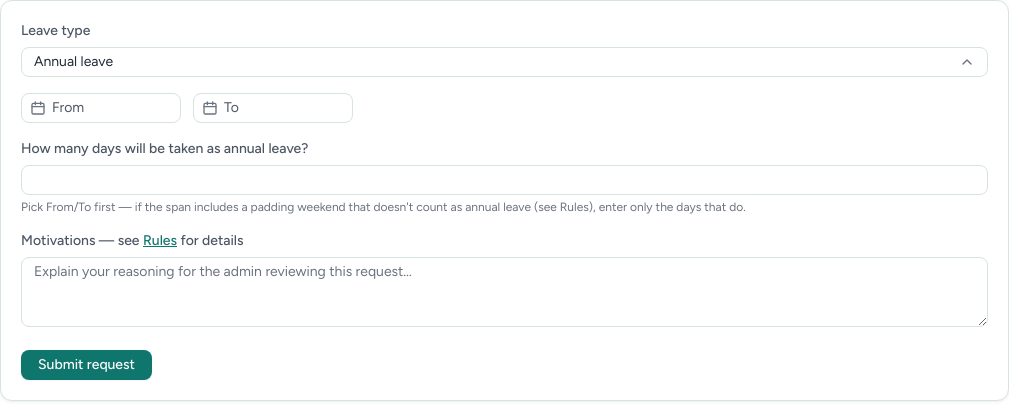
Scenario: LeaveRequestForm › special leave: shows an amber advisory once pressure is over the soft cap, without disabling submission
This screenshot has width=1024, height=419.
Step 1. Click the button "Annual leave" → point(74, 62), box [21,47,988,77]
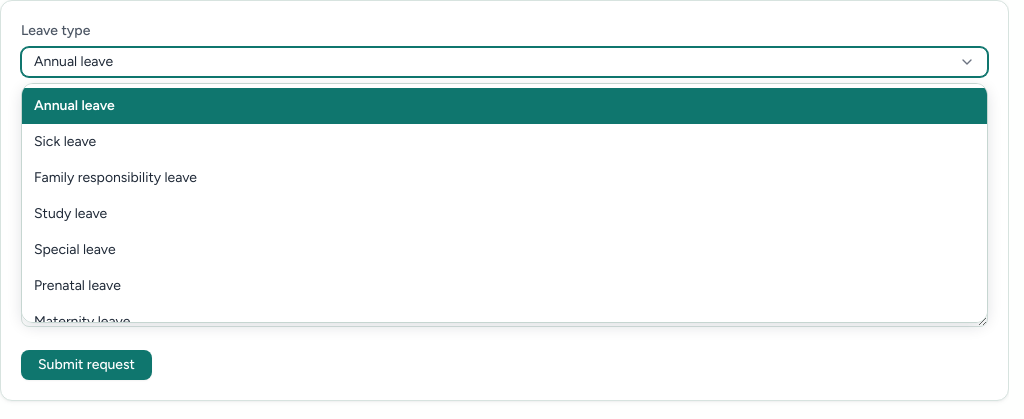
Step 2. Click the option "Special leave" → point(75, 250), box [22,232,987,268]
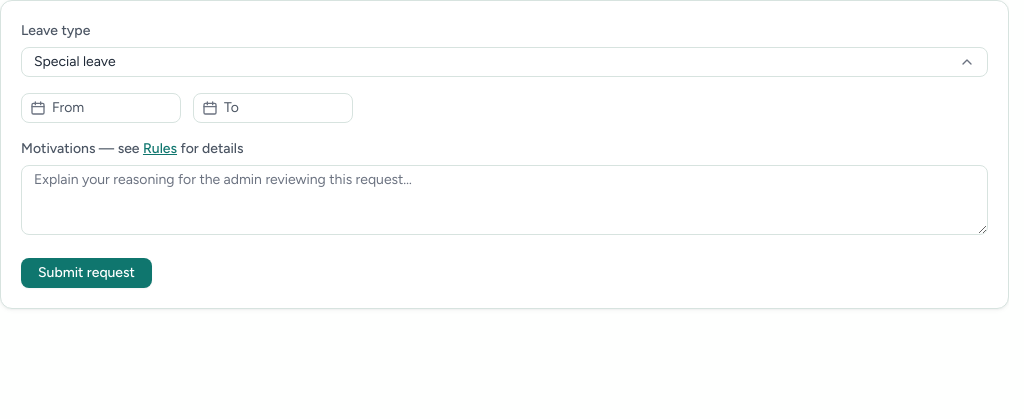
Step 3. Type "2026-08-10" into the date field labelled "From" → point(101, 108), box [21,93,181,123]
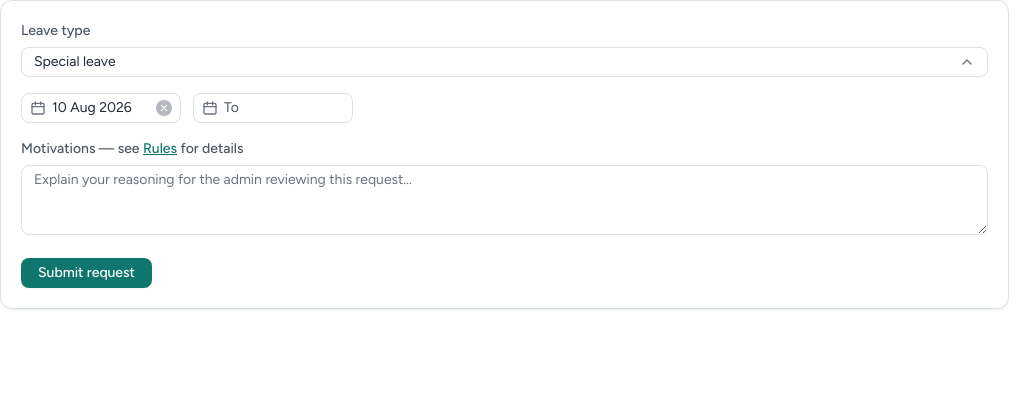
Step 4. Type "2026-08-14" into the date field labelled "To" → point(273, 108), box [193,93,353,123]
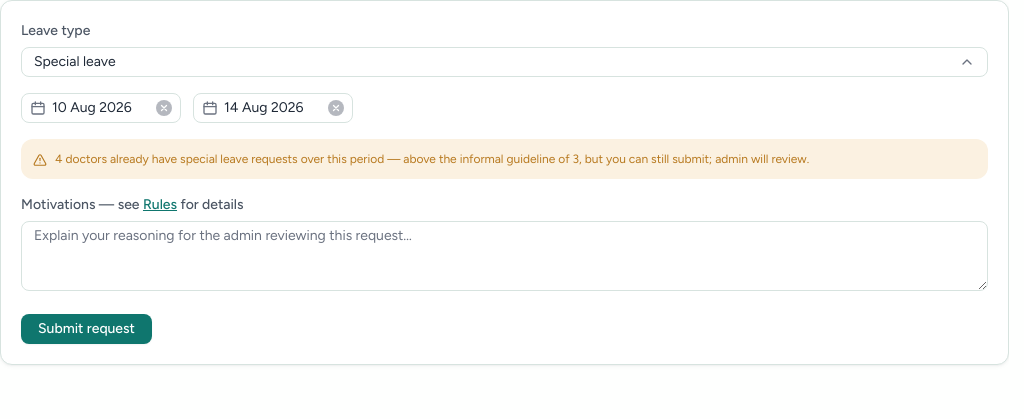
Expected: the button "Submit request" is enabled, [21,314,152,344]
Expected: the text "above the informal guideline of 3" is shown, [55,151,809,167]
